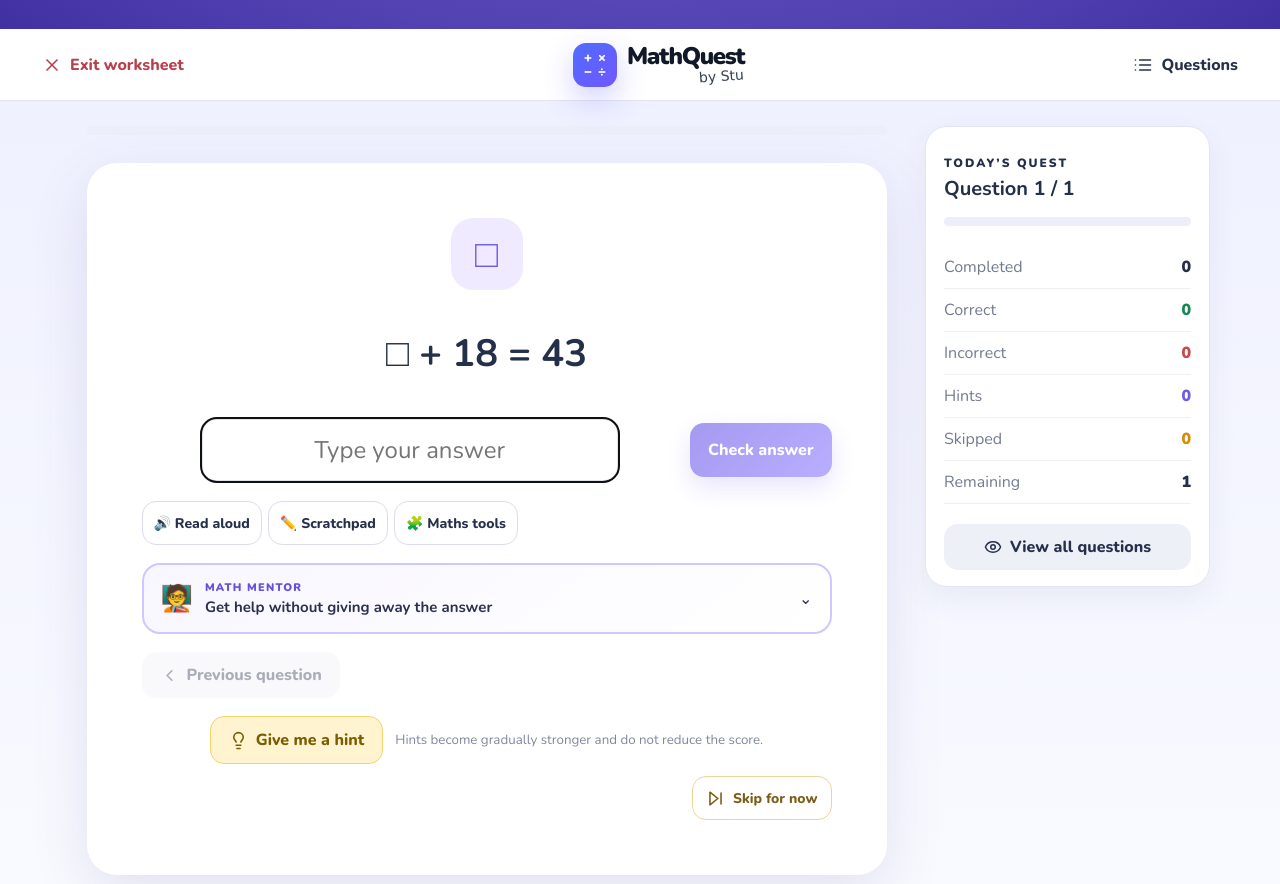
Test: Math Mentor › restarts mentoring without clearing the active worksheet
(page scrolled)
Click the button "🧑‍🏫 MATH MENTOR Get help without giving away the answer ⌄".
click(486, 598)  # box x1=144 y1=565 x2=830 y2=632
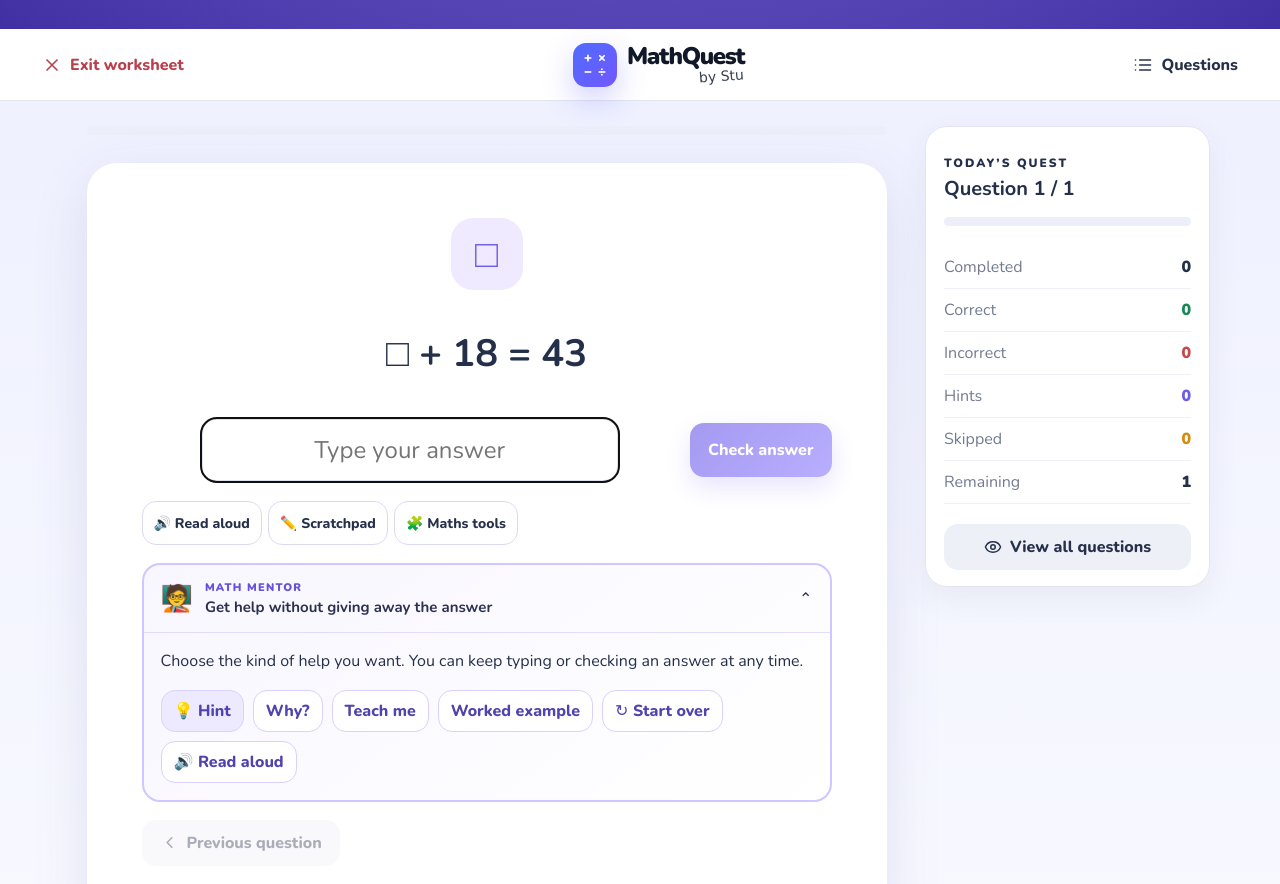
Click the button "↻ Start over".
click(662, 711)  # box x1=602 y1=690 x2=722 y2=732
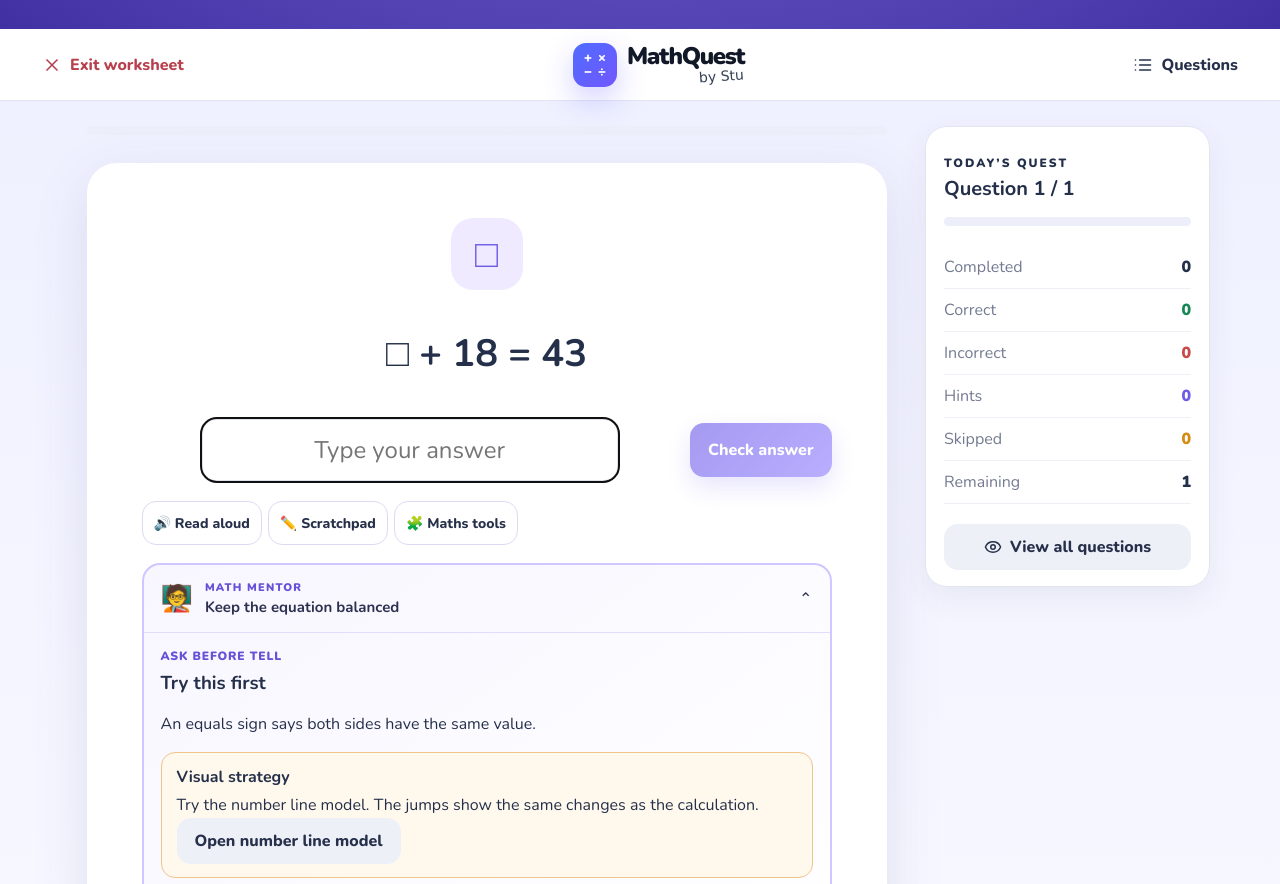
Expected: the heading "□ + 18 = 43" is shown, x1=386 y1=328 x2=587 y2=379
Result: the heading "Try this first" is shown at x1=160 y1=670 x2=266 y2=696
